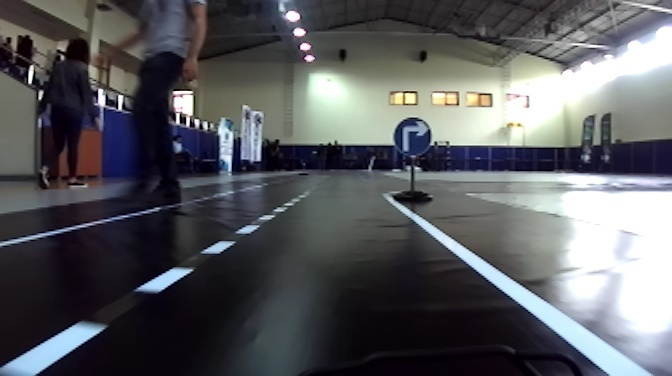saga_donus: (390, 118, 434, 156)
